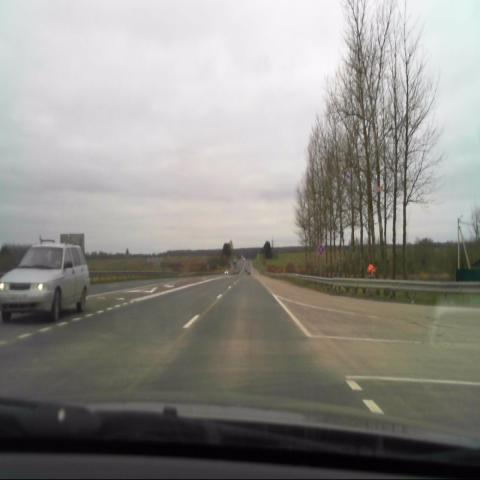3_27: (317, 243, 325, 255)
